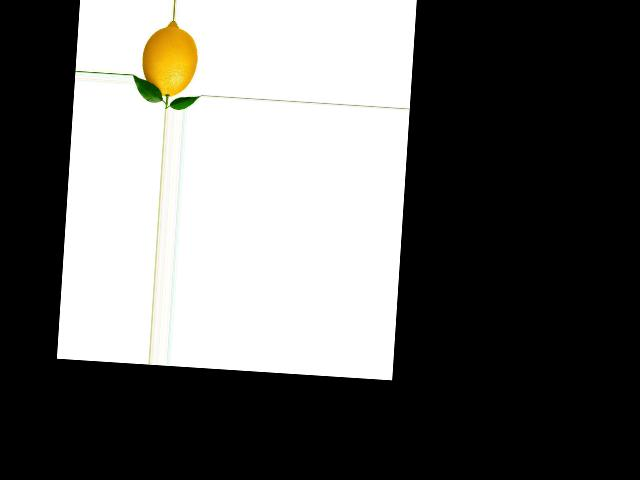lemon: (136, 20, 202, 105)
